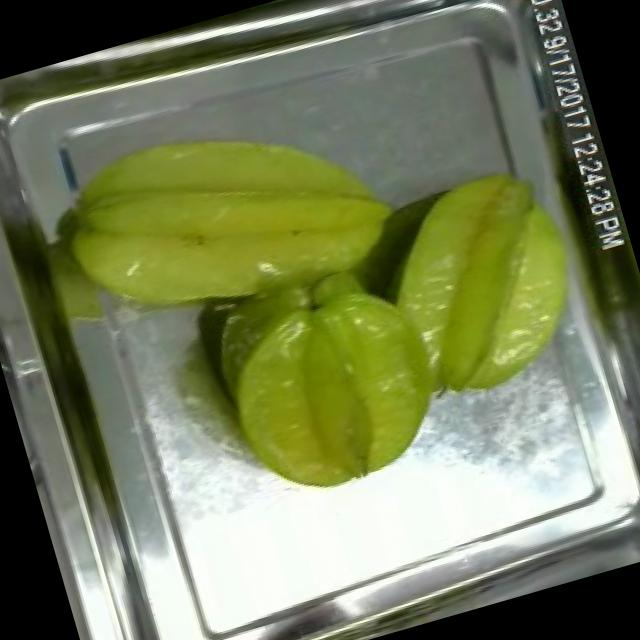fruit: (24, 68, 414, 358), (350, 144, 612, 422), (194, 258, 468, 520)
